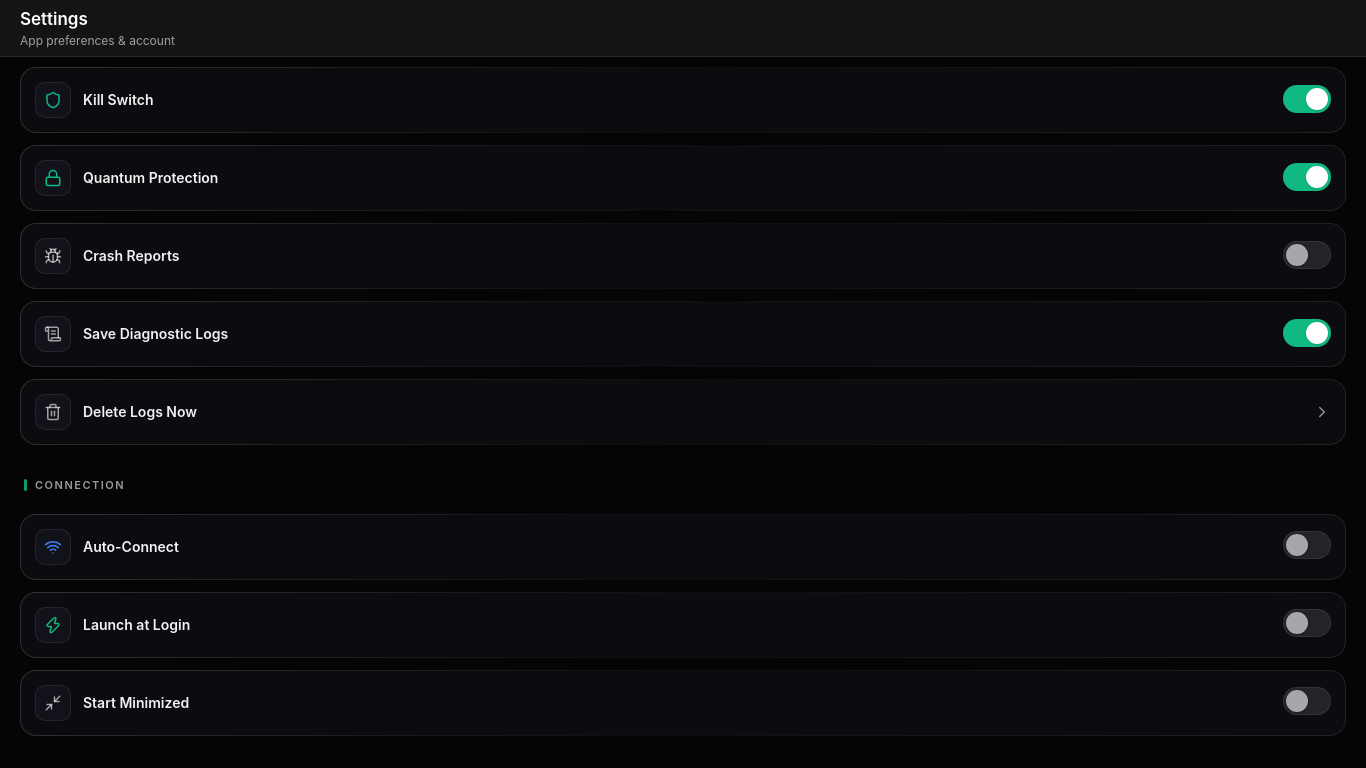
Delete Logs Now › is a plain row (no description) that asks before deleting anything
(page scrolled)
Expected: the text "Deletes the diagnostic log" is not shown
What coordinates should you click on to do the following:
click the button "Delete Logs Now"
I would click on:
 (53, 412)
Its box is [21,380,1345,444].
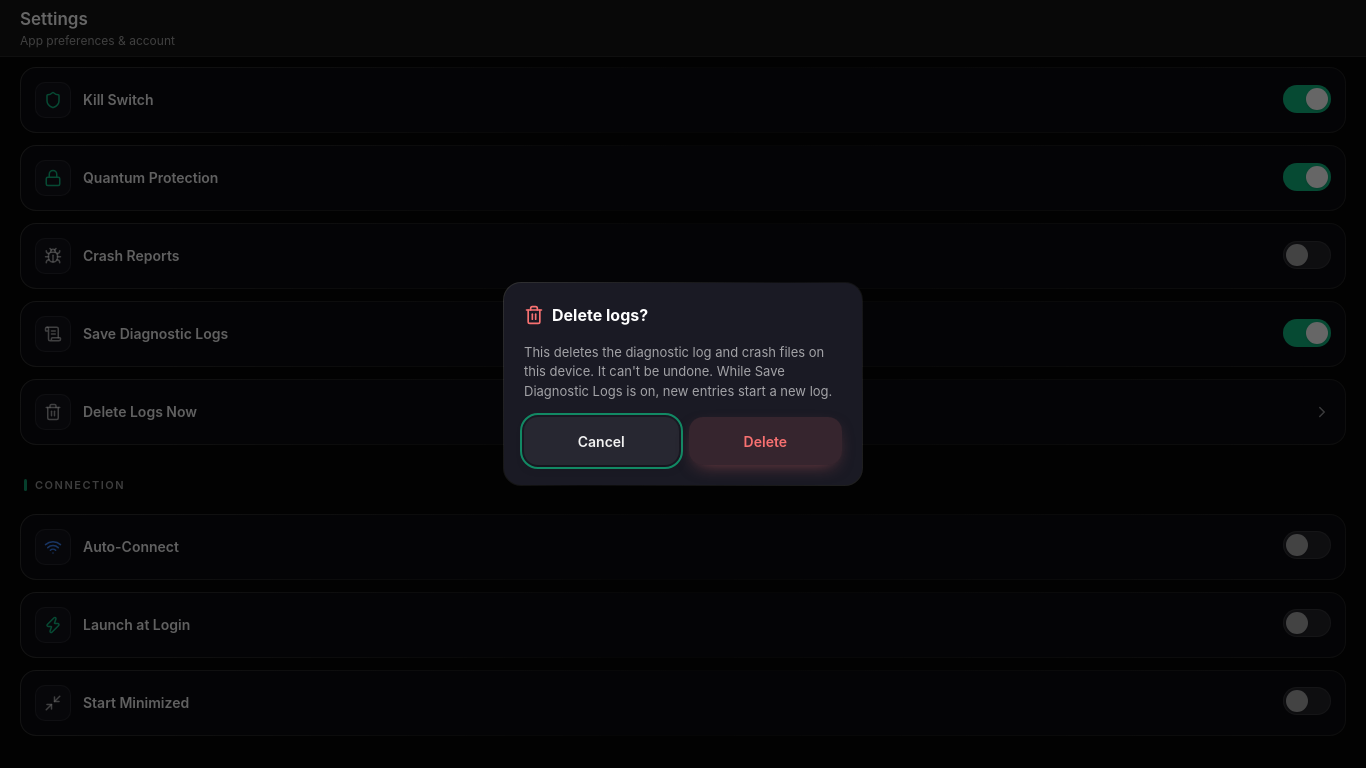
Expected: the heading "Delete logs?" is shown, [552,303,648,327]
